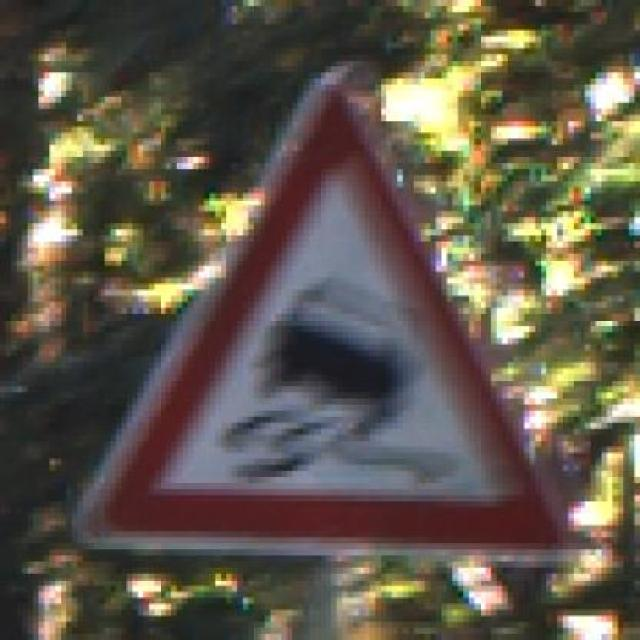Slippery Road Ahead: (72, 55, 586, 573)
